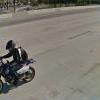Motorcycle: (2, 39, 41, 87)
